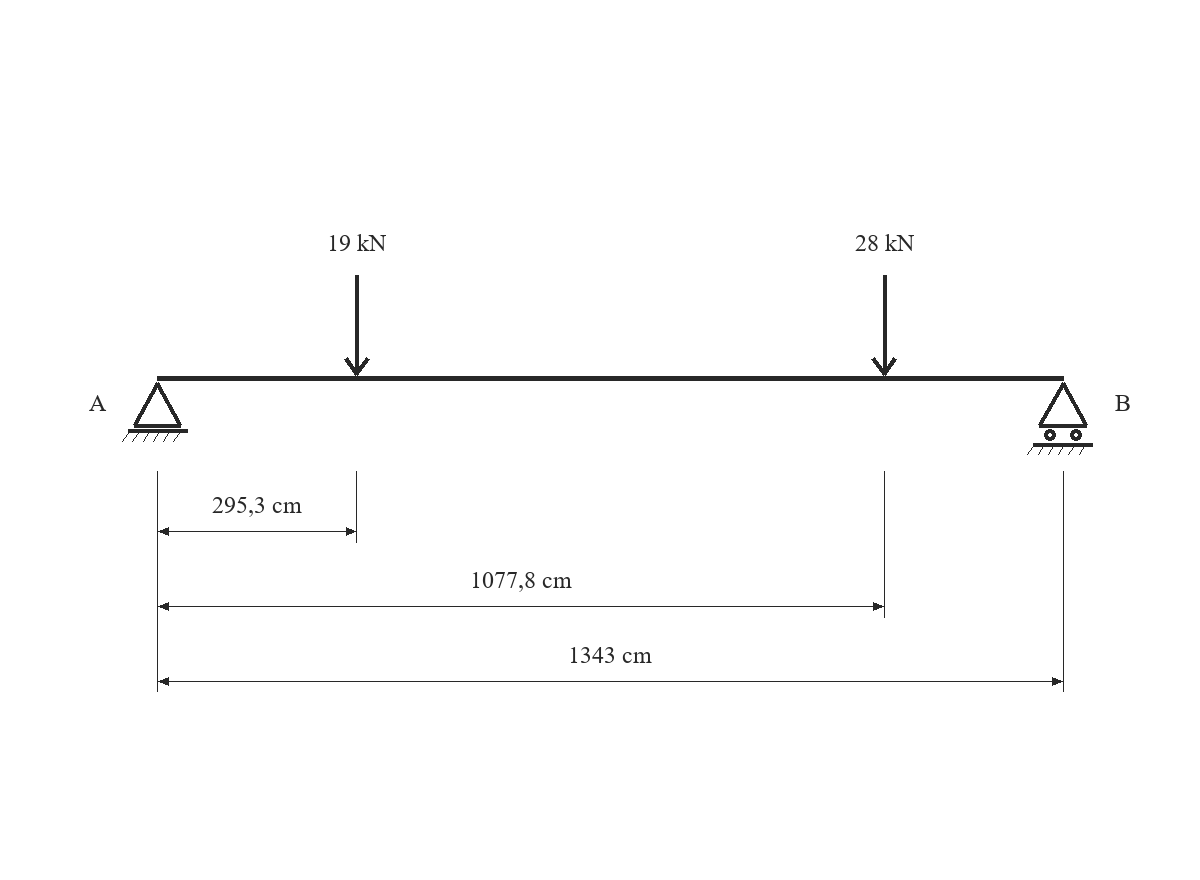pin_support: (122, 382, 188, 442)
point_load: (344, 275, 370, 376), (871, 275, 897, 376)
roller_support: (1027, 382, 1093, 455)
